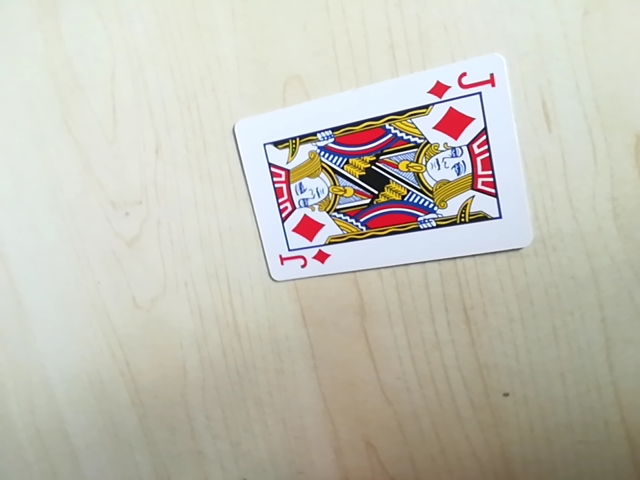fk j: (428, 64, 498, 101), (272, 247, 331, 278)
